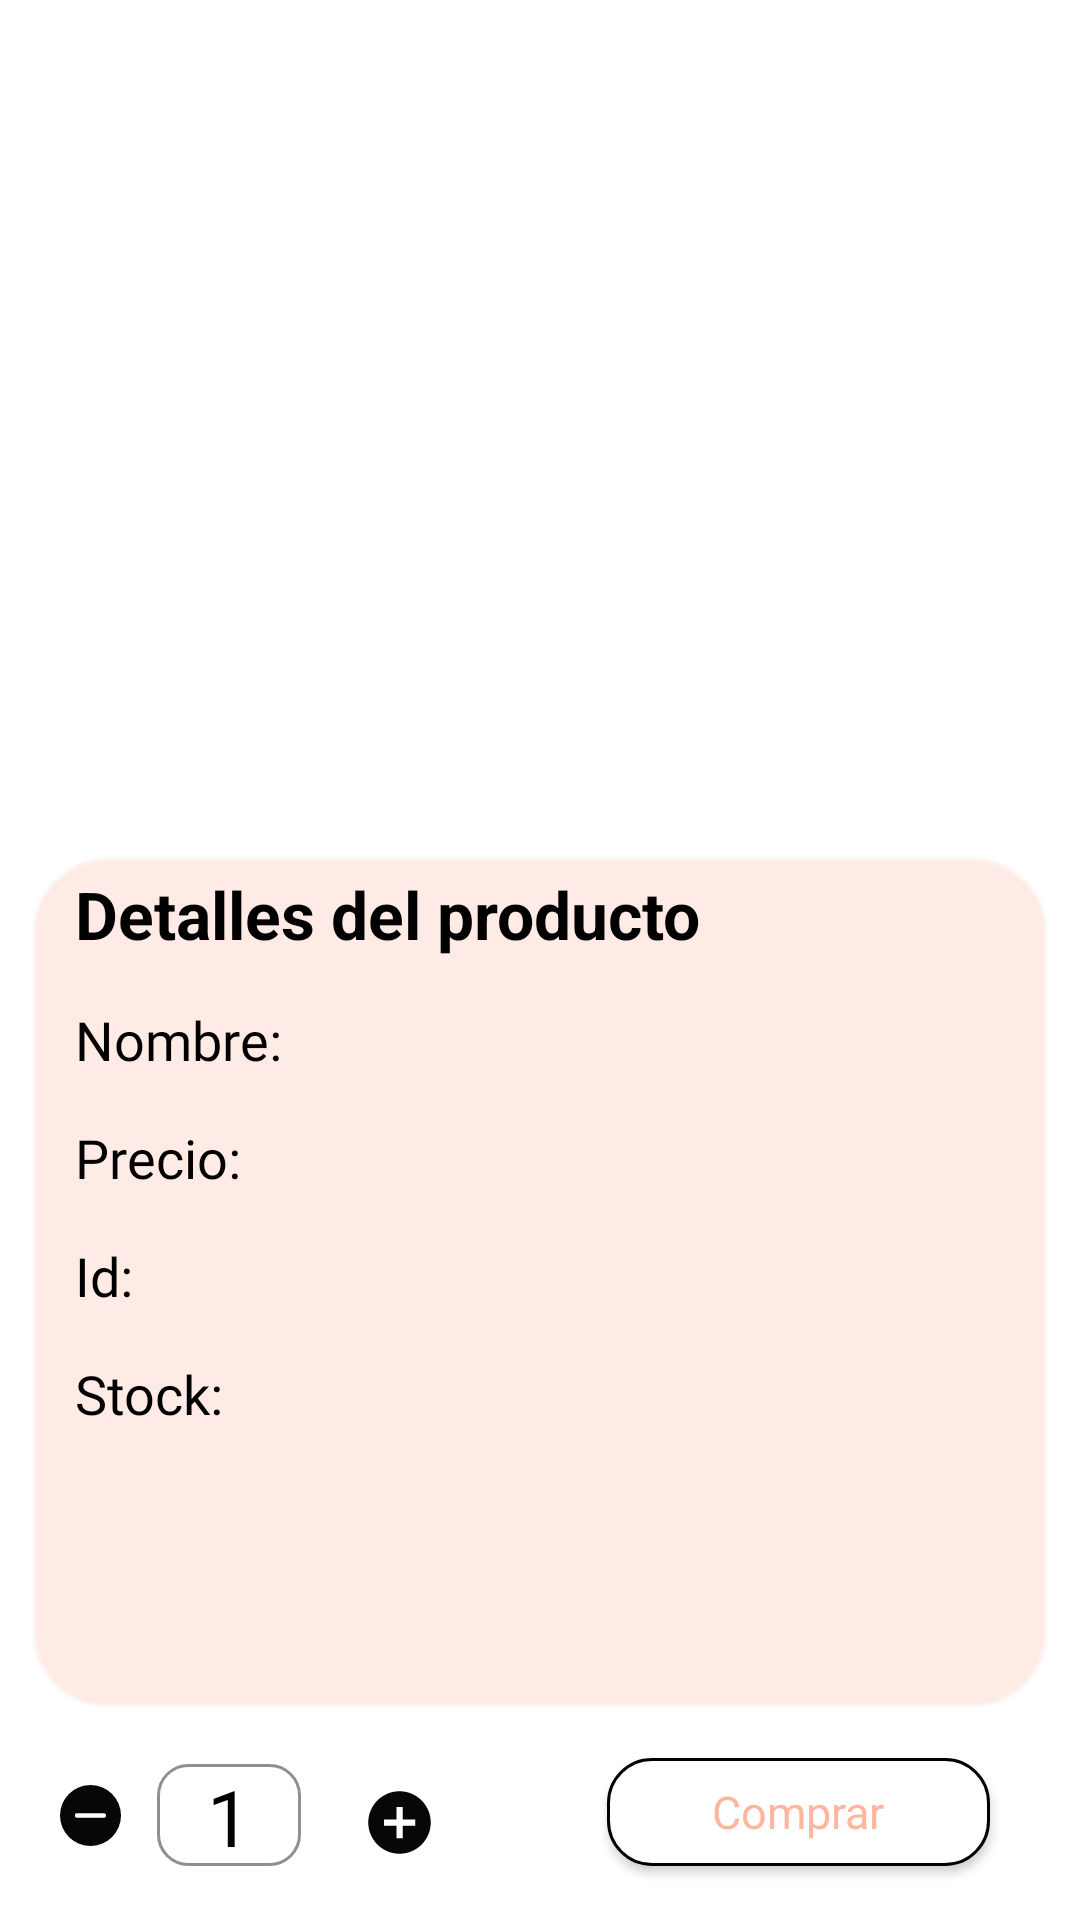

Point at icon controls on the screen. Image size 1080 × 1920, points as (x=x, y=y).
additems: (x=399, y=1822)
iconremoveitem: (x=90, y=1815)
